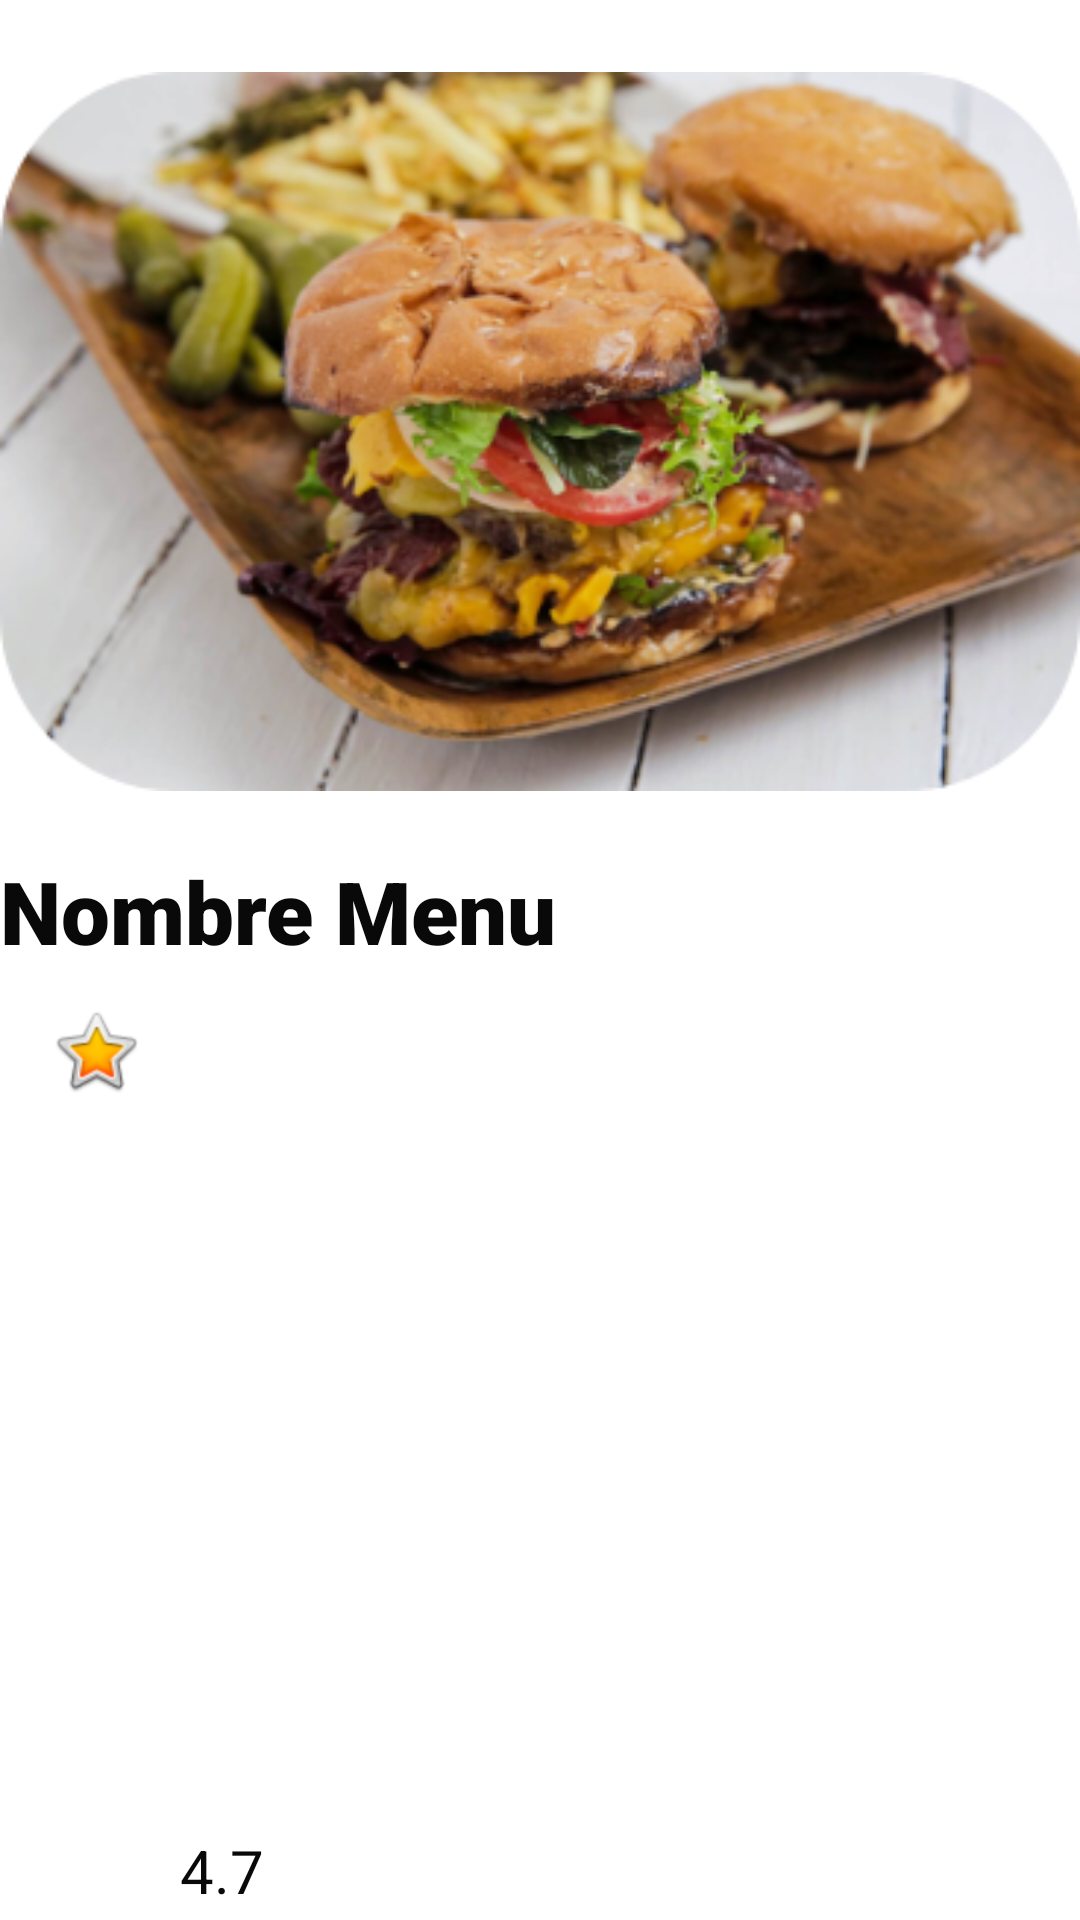

Screen size 1080px×1920px. Icon name, then its center in pixels as (x,y):
star on: (97,1052)
